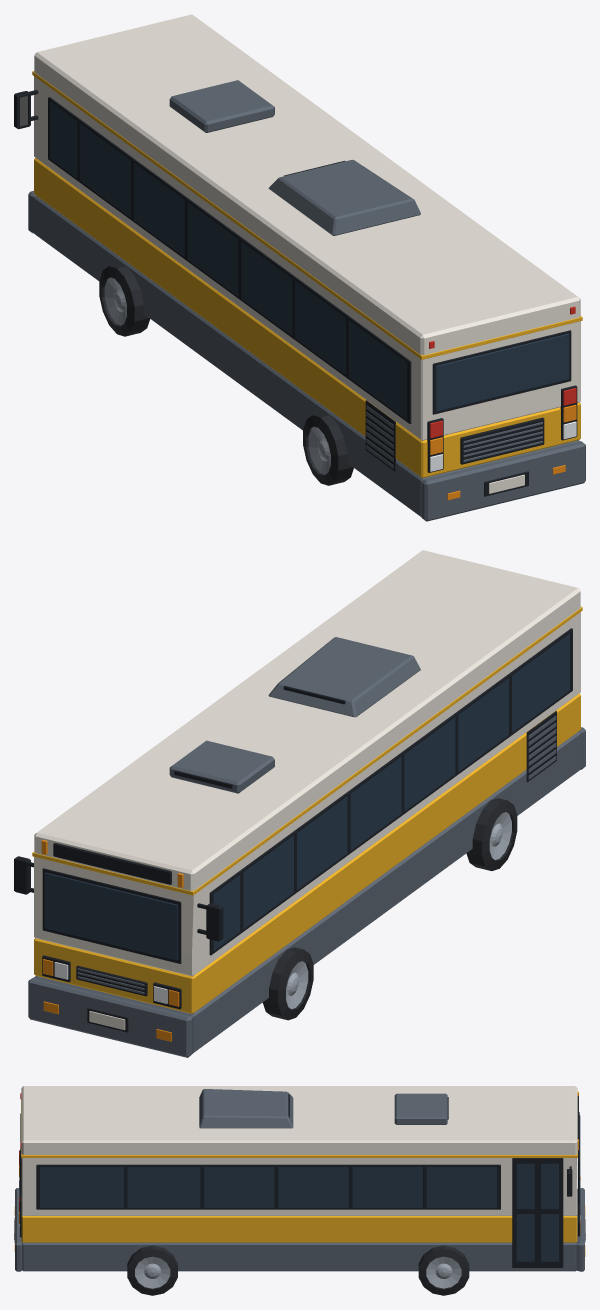
The model's file is worker_bus.fbx.
3 renders of one model, top to bottom at view 1: azimuth 30°, elevation 25°; view 2: azimuth 150°, elevation 25°; view 3: azimuth 270°, elevation 25°, orthographic. The views are drawn at different scales.
Visible parts, largest first — view 1: WorkerBus_LowPoly, WorkerBus_LowPoly.001, tire4, tire3; view 2: WorkerBus_LowPoly, WorkerBus_LowPoly.001, tire4, tire3; view 3: WorkerBus_LowPoly, WorkerBus_LowPoly.001, tire1, tire2.
Part boxes in pixels (x1,y1,x2,y2): WorkerBus_LowPoly: (14, 14, 585, 521); WorkerBus_LowPoly.001: (34, 195, 579, 516); tire4: (303, 413, 353, 485); tire3: (99, 263, 149, 336); WorkerBus_LowPoly: (14, 550, 585, 1057); WorkerBus_LowPoly.001: (34, 731, 580, 1053); tire4: (466, 798, 517, 870); tire3: (262, 947, 313, 1020); WorkerBus_LowPoly: (14, 1086, 585, 1271); WorkerBus_LowPoly.001: (22, 1242, 576, 1271); tire1: (418, 1245, 469, 1295); tire2: (127, 1245, 177, 1295).
Bounding box in the file's own units: 321 × 338 × 1080.
